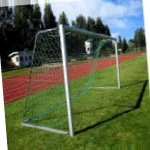goals: (21, 24, 123, 137)
